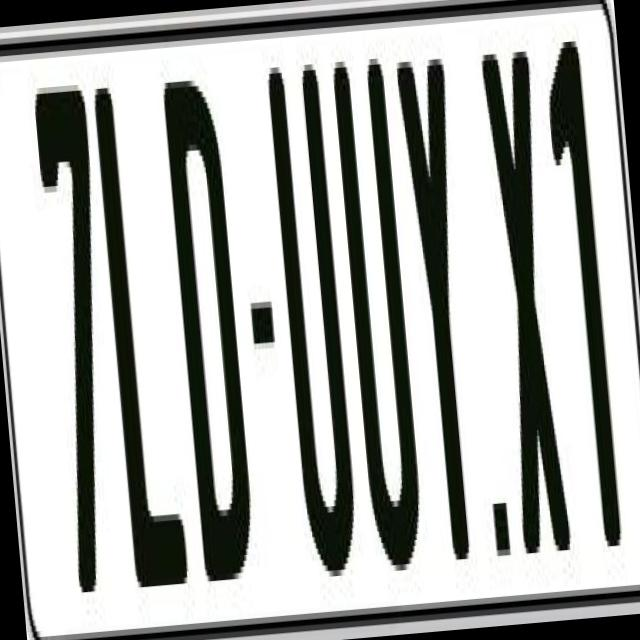1: (541, 40, 626, 548)
7: (32, 78, 132, 592)
D: (160, 78, 262, 616)
L: (88, 84, 193, 623)
U: (266, 51, 368, 602), (329, 45, 428, 572)
X: (477, 51, 570, 576)
Y: (394, 58, 488, 590)
